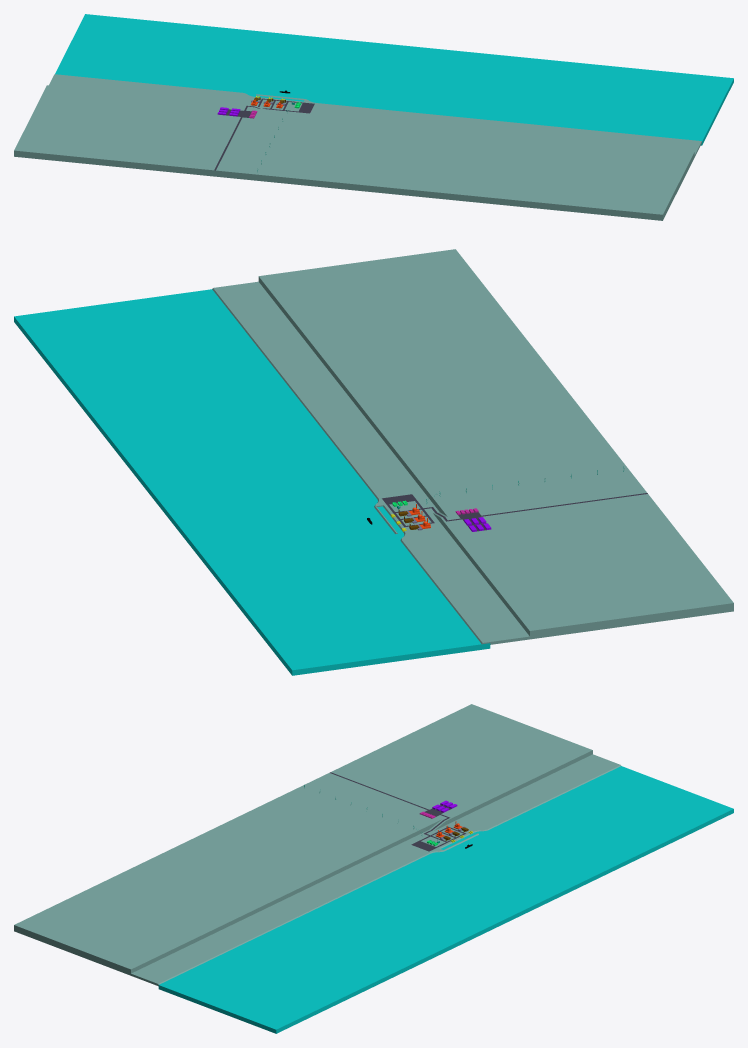
The model's file is AtomOuest_Modele3D-V2.dae.
The picture shows the model from 3 angles, top to bottom: view 1: azimuth 30°, elevation 25°; view 2: azimuth 150°, elevation 25°; view 3: azimuth 270°, elevation 25°; orthographic projection. The views are drawn at different scales.
Visible parts, largest first — view 1: group_3, group_24, group_1, group_0; view 2: group_3, group_24, group_1, group_0; view 3: group_3, group_24, group_1, group_0.
Part boxes in pixels (bbox=[...]): group_3: bbox=[14, 74, 694, 218]; group_24: bbox=[55, 14, 733, 145]; group_1: bbox=[240, 94, 701, 220]; group_0: bbox=[214, 98, 314, 170]; group_3: bbox=[258, 249, 733, 644]; group_24: bbox=[14, 289, 490, 675]; group_1: bbox=[212, 281, 439, 534]; group_0: bbox=[382, 493, 647, 531]; group_3: bbox=[14, 704, 621, 973]; group_24: bbox=[158, 766, 733, 1033]; group_1: bbox=[14, 829, 478, 986]; group_0: bbox=[329, 772, 465, 851].
Size of the model in its own units: 191204 by 184921 by 4817.
